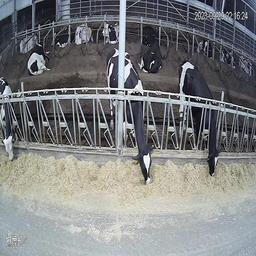cow: (103, 48, 156, 184), (176, 58, 222, 178), (1, 76, 21, 163), (138, 33, 163, 73), (27, 40, 53, 74), (51, 24, 73, 48), (99, 19, 119, 44), (75, 20, 94, 46), (17, 33, 35, 54), (196, 36, 213, 58)
